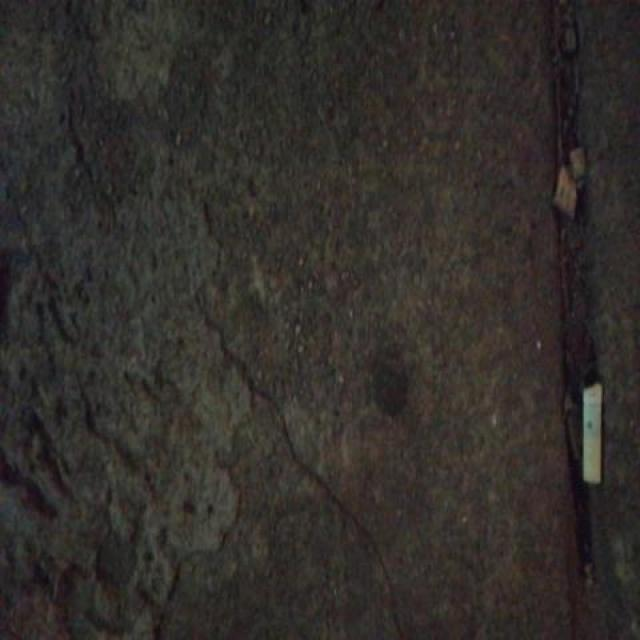non-organic waste: (579, 376, 606, 489)
